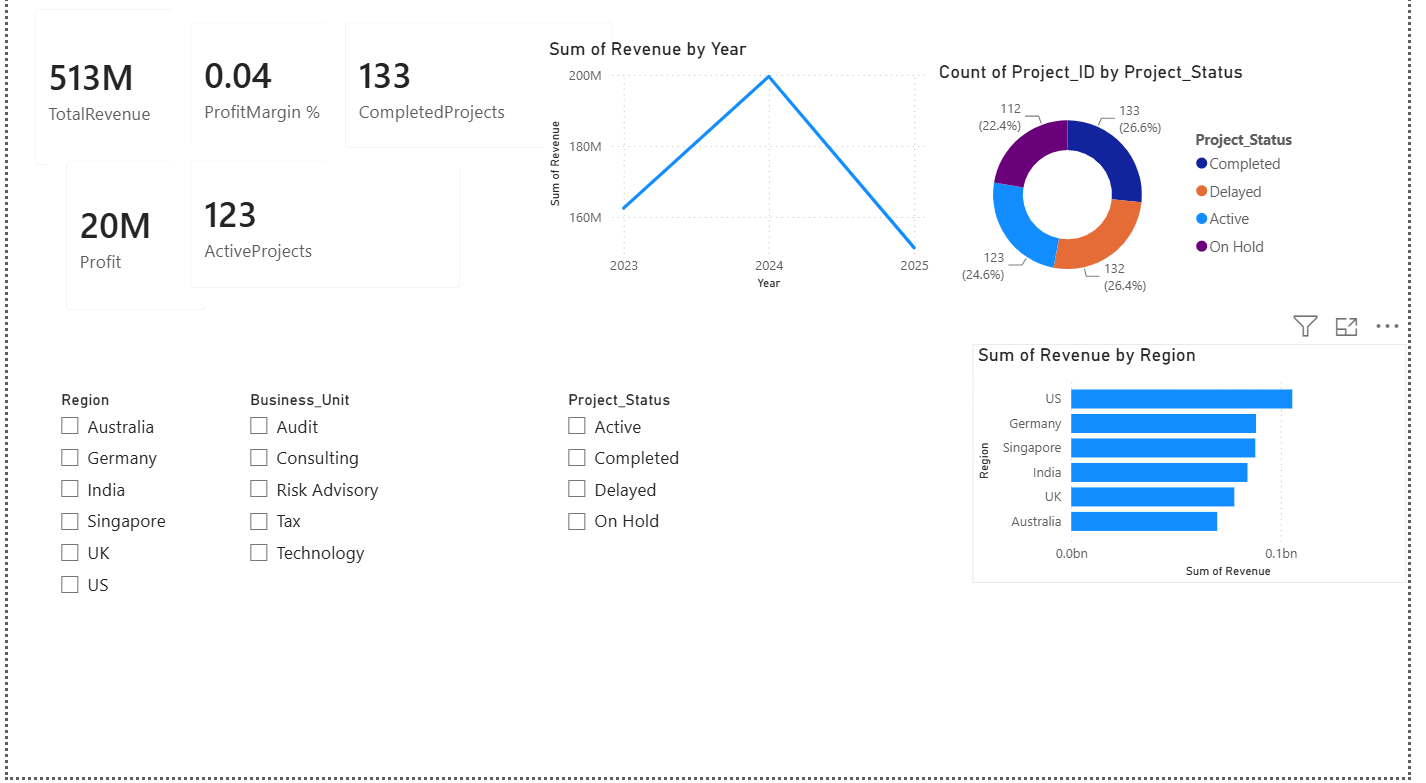

What the dashboard file says about the page in this screenshot:
{"tool":"powerbi","page":{"name":"Executive Overview","canvas":[1280,720],"ordinal":0},"visuals":[{"type":"cardVisual","fields":{"Data":["Sheet.TotalRevenue"]},"box":[7.4,0,208.9,177.5],"z":0},{"type":"cardVisual","fields":{"Data":["Sheet.Profit"]},"box":[35.1,138.7,162.7,171.9],"z":1000},{"type":"cardVisual","fields":{"Data":["Sheet.ProfitMargin %"]},"box":[149.8,12.9,281,149.8],"z":2000},{"type":"cardVisual","fields":{"Data":["Sheet.ActiveProjects"]},"box":[149.8,138.7,281,151.6],"z":3000},{"type":"cardVisual","fields":{"Data":["Sheet.CompletedProjects"]},"box":[290.3,12.9,279.2,149.8],"z":4000},{"type":"lineChart","fields":{"Category":["Sheet.Start_Date.Variation.Date Hierarchy.Year","Sheet.Start_Date.Variation.Date Hierarchy.Quarter","Sheet.Start_Date.Variation.Date Hierarchy.Month","Sheet.Start_Date.Variation.Date Hierarchy.Day"],"Y":["Sum(Sheet.Revenue)"]},"box":[489.9,44.4,356.8,234.8],"z":5000},{"type":"donutChart","fields":{"Category":["Sheet.Project_Status"],"Y":["CountNonNull(Sheet.Project_ID)"]},"box":[846.8,64.7,349.4,225.6],"z":6000},{"type":"clusteredBarChart","fields":{"Category":["Sheet.Region"],"Y":["Sum(Sheet.Revenue)"]},"box":[881.9,323.5,397.5,218.2],"z":7000},{"type":"slicer","fields":{"Values":["Sheet.Region"]},"box":[35.1,360.5,194.1,225.6],"z":7001},{"type":"slicer","fields":{"Values":["Sheet.Business_Unit"]},"box":[208.9,360.5,281,203.4],"z":7002},{"type":"slicer","fields":{"Values":["Sheet.Project_Status"]},"box":[499.2,360.5,281,203.4],"z":7003}]}

Visuals, with their boxes in screenshot pixels (x1, y1, x2, y2), scaled from the page's 1280x720 canvas onto the 1426x783 screenshot:
cardVisual - Sheet.TotalRevenue: detection(8, 0, 241, 193)
cardVisual - Sheet.Profit: detection(39, 151, 220, 338)
cardVisual - Sheet.ProfitMargin %: detection(167, 14, 480, 177)
cardVisual - Sheet.ActiveProjects: detection(167, 151, 480, 316)
cardVisual - Sheet.CompletedProjects: detection(323, 14, 634, 177)
lineChart - Sheet.Start_Date.Variation.Date Hierarchy.Year x Sheet.Start_Date.Variation.Date Hierarchy.Quarter: detection(546, 48, 943, 304)
donutChart - Sheet.Project_Status x CountNonNull(Sheet.Project_ID): detection(943, 70, 1333, 316)
clusteredBarChart - Sheet.Region x Sum(Sheet.Revenue): detection(982, 352, 1425, 589)
slicer - Sheet.Region: detection(39, 392, 255, 637)
slicer - Sheet.Business_Unit: detection(233, 392, 546, 613)
slicer - Sheet.Project_Status: detection(556, 392, 869, 613)
